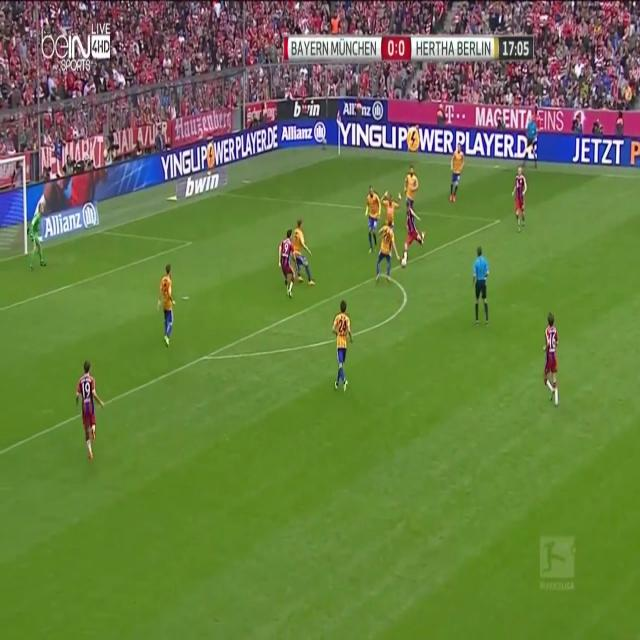Ball: (399, 256, 408, 270)
Goalkeeper: (27, 201, 47, 272)
Player: (74, 358, 106, 462), (332, 299, 354, 395), (542, 312, 560, 411), (156, 261, 176, 350), (292, 218, 316, 289), (376, 220, 400, 284), (276, 227, 297, 299), (404, 197, 426, 259), (510, 165, 530, 232), (363, 184, 382, 253), (447, 143, 465, 203), (381, 184, 402, 220), (403, 162, 419, 209)
Referee: (471, 246, 492, 327), (525, 118, 539, 164)
